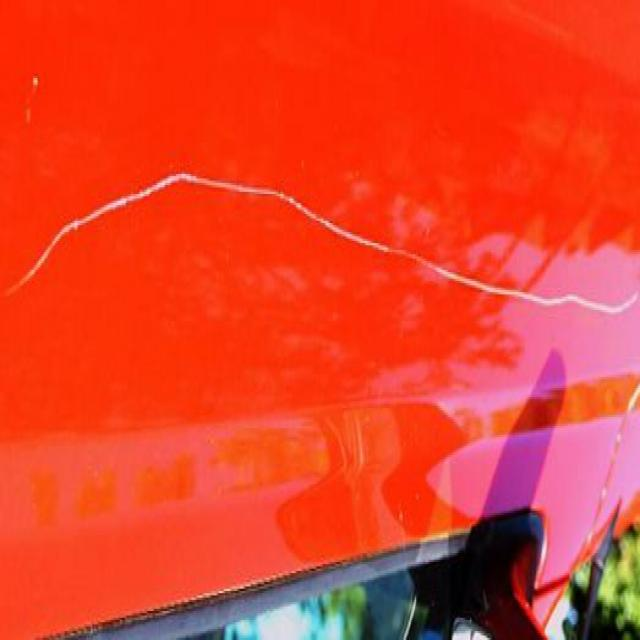scratch: (0, 172, 634, 314)
